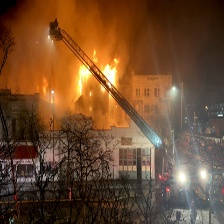fire: (74, 50, 120, 99), (37, 78, 50, 95)
smoke: (1, 4, 90, 86)
